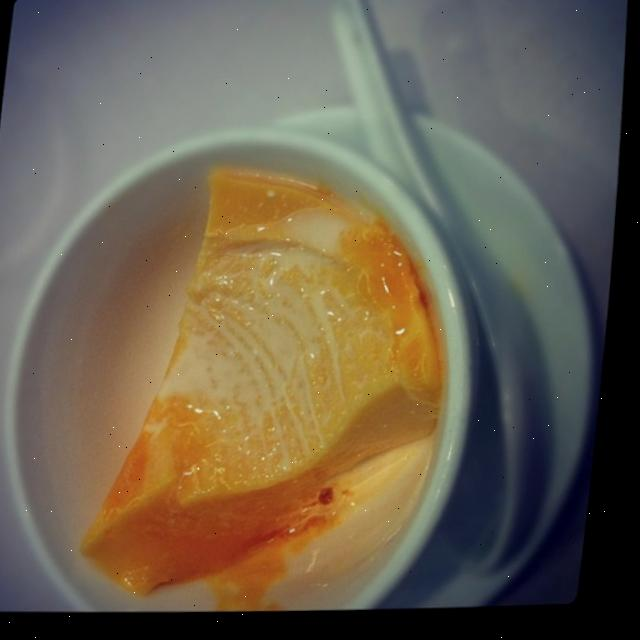蛋糕甜品: (0, 105, 526, 621)
